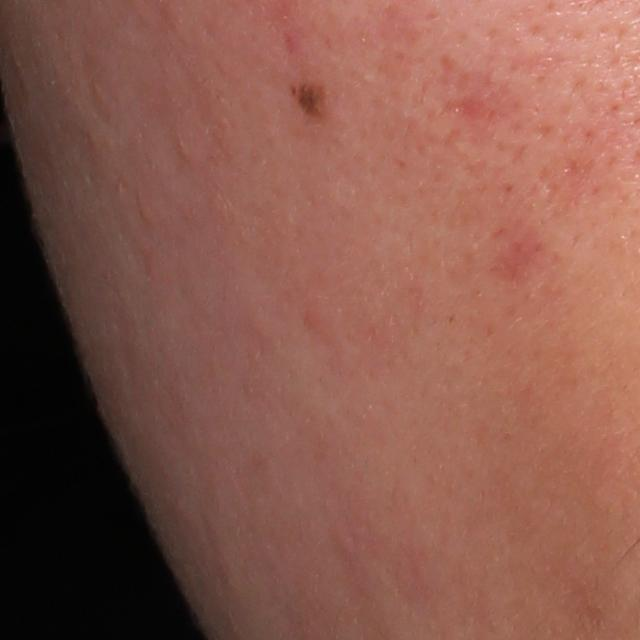nevus: (289, 80, 333, 121)
